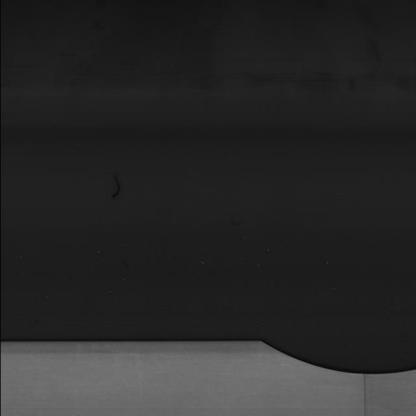crescent_gap: (244, 332, 416, 385)
welding_line: (352, 368, 379, 416)
